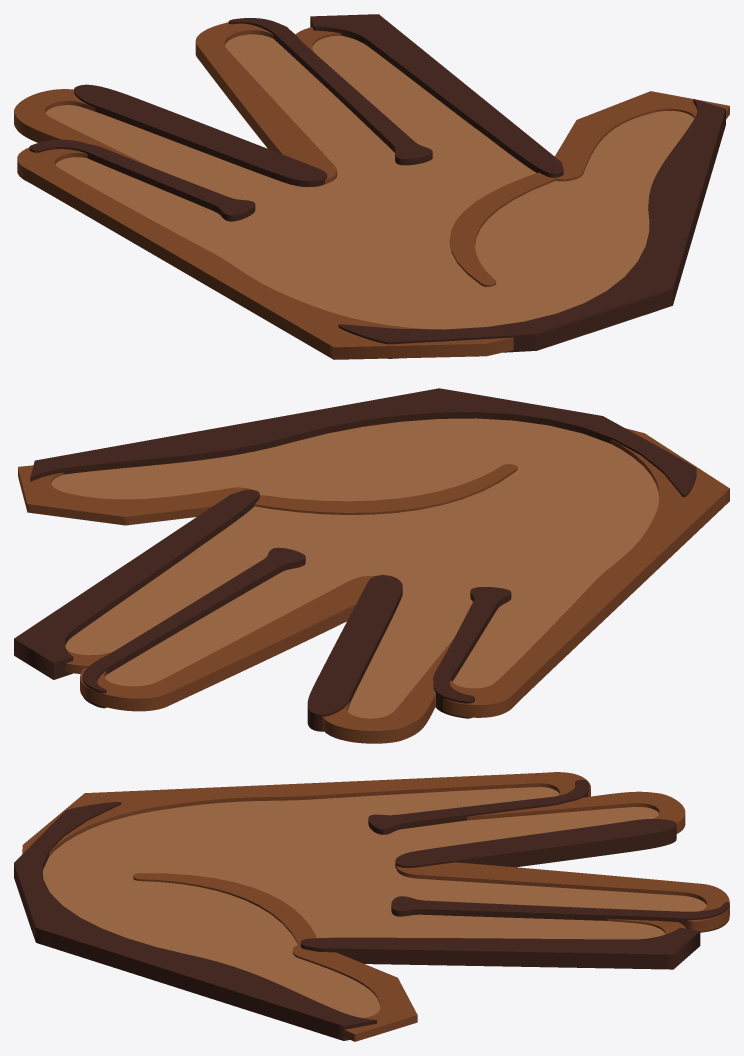
The model's file is emoji_u1f596_1f3fe.glb.
3 views of the same model, one above another, from view 1: azimuth 30°, elevation 25°; view 2: azimuth 150°, elevation 25°; view 3: azimuth 270°, elevation 25° (orthographic). The views are drawn at different scales.
Parts seen in each view (by area): view 1: emoji_u1f596_1f3fe; view 2: emoji_u1f596_1f3fe; view 3: emoji_u1f596_1f3fe.
Boxes of the visible parts, x1,y1,x2,y2 form: emoji_u1f596_1f3fe: [14, 14, 729, 359]; emoji_u1f596_1f3fe: [14, 388, 729, 743]; emoji_u1f596_1f3fe: [14, 772, 729, 1041].
Size of the model in its own units: 0.0299 by 0.0008 by 0.0348.
